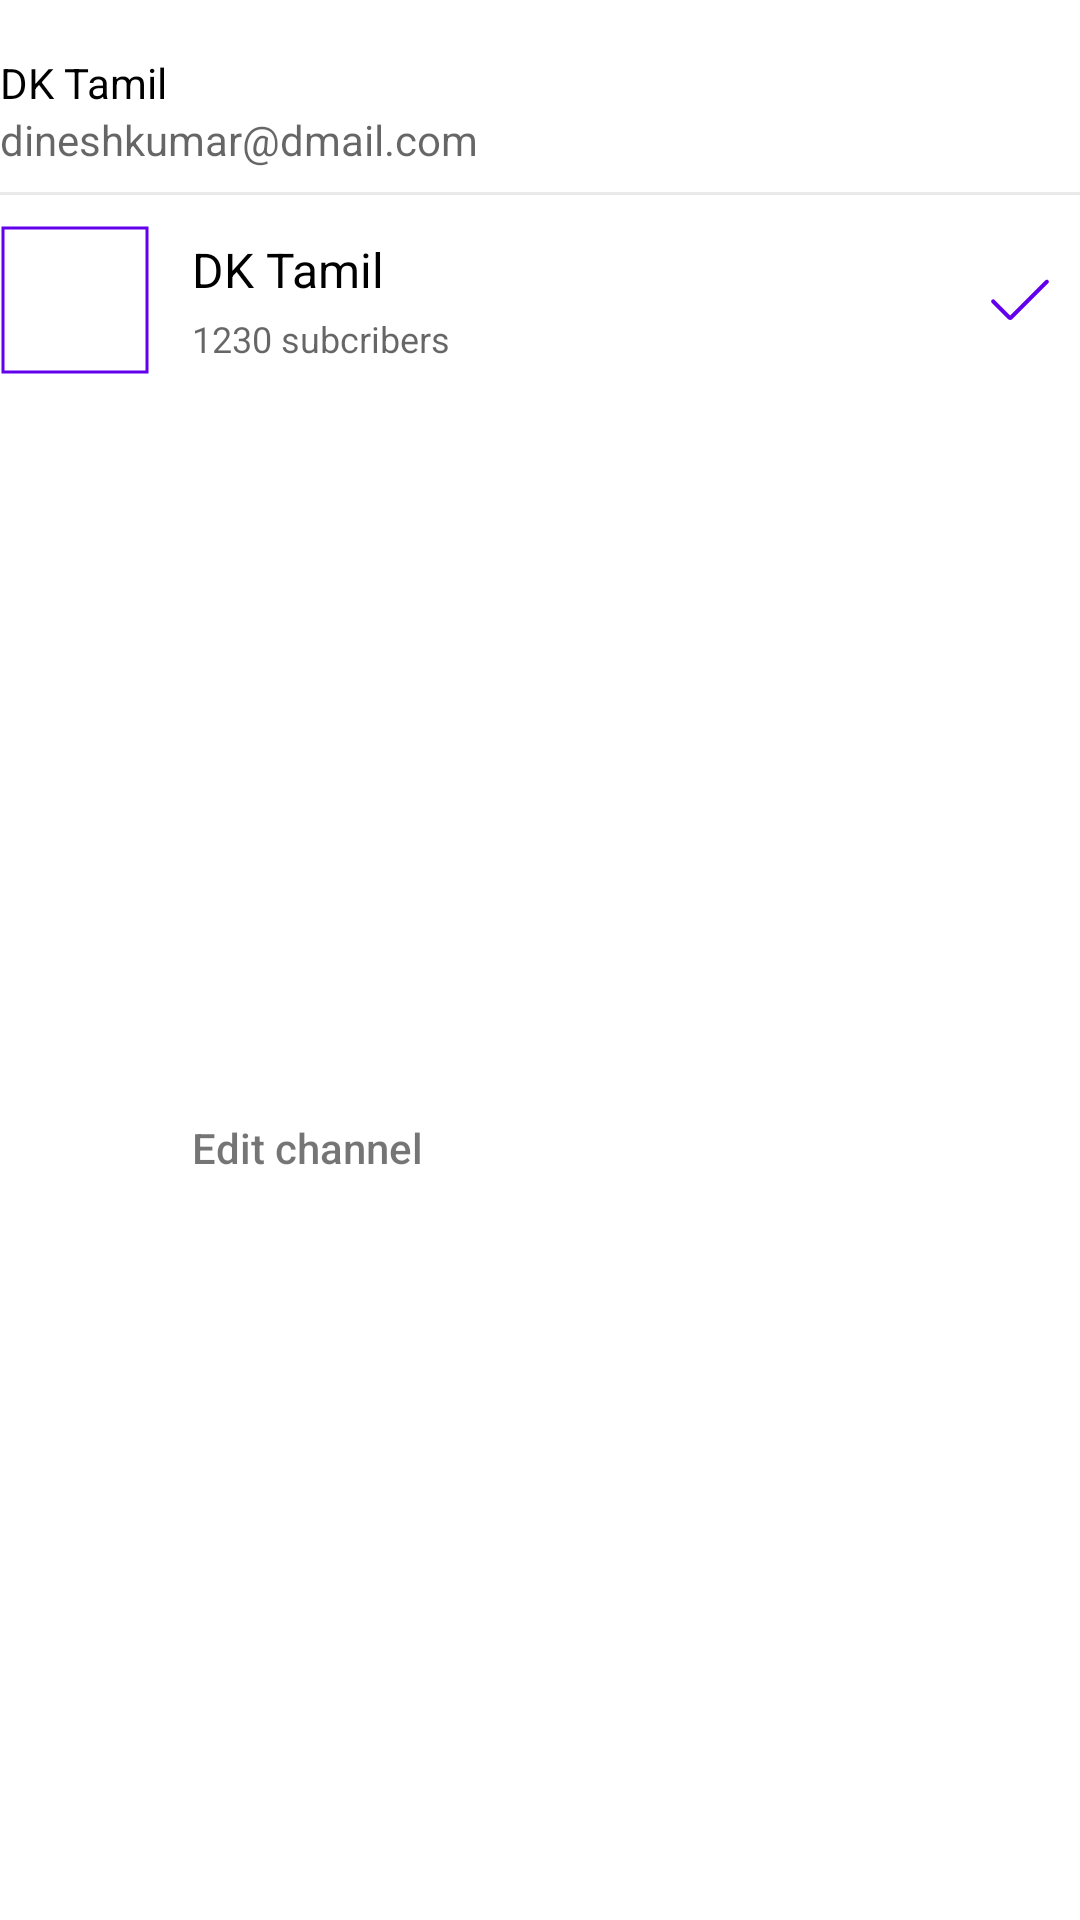

Locate icon controls on the screen. Image size 1080w x 1920h, boxes as (left=x1, top=y1, right=x2, bottom=y2).
done: (left=991, top=279, right=1049, bottom=320)
